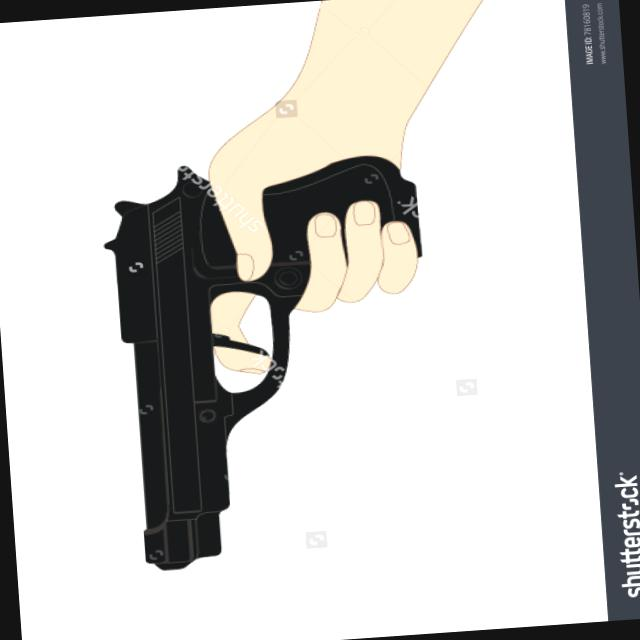handgun: (98, 148, 440, 573)
